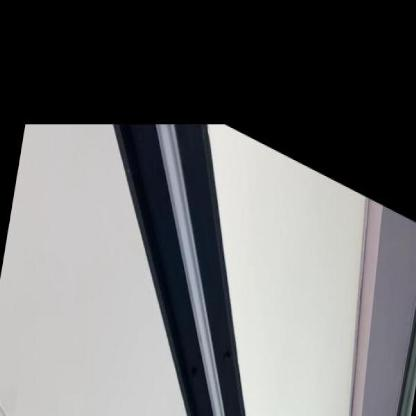light_off: (74, 82, 327, 415)
